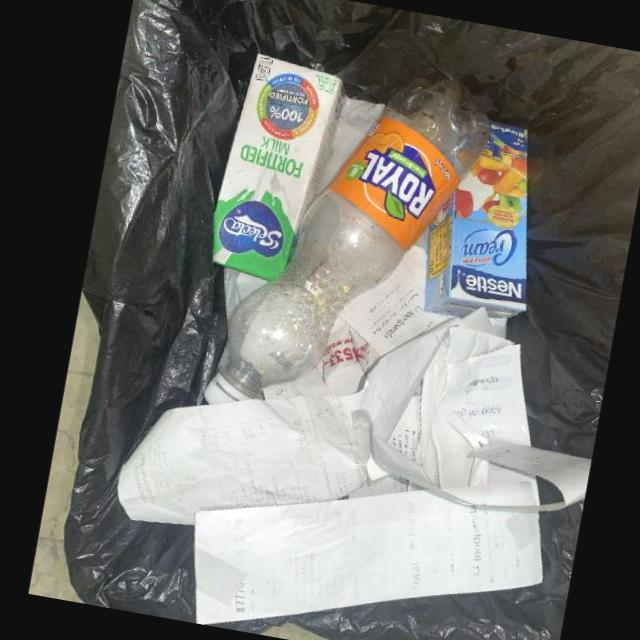chai_nhua_pet: (203, 69, 491, 404)
giay: (117, 317, 459, 525), (194, 489, 544, 624), (431, 305, 536, 490), (338, 244, 452, 355)
vo_hop_sua: (212, 51, 343, 281), (423, 119, 528, 318)
